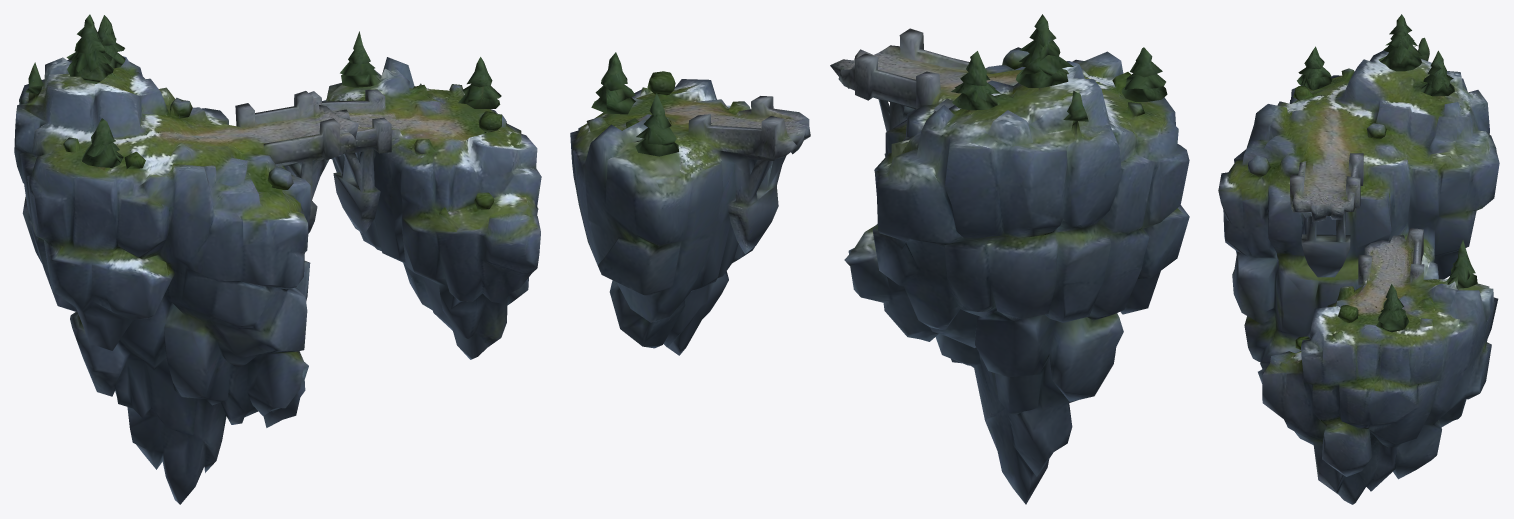
File: island-split.glb
3 views of the same model, side by side, from view 1: azimuth 30°, elevation 25°; view 2: azimuth 150°, elevation 25°; view 3: azimuth 270°, elevation 25° (orthographic). The views are drawn at different scales.
Visible parts, largest first — view 1: tripo_node_a07e5231-4ee9-4728-a29a-5313c194580a; view 2: tripo_node_a07e5231-4ee9-4728-a29a-5313c194580a; view 3: tripo_node_a07e5231-4ee9-4728-a29a-5313c194580a.
Part boxes in pixels (<box>): tripo_node_a07e5231-4ee9-4728-a29a-5313c194580a: <box>14,14,541,504</box>; tripo_node_a07e5231-4ee9-4728-a29a-5313c194580a: <box>570,14,1189,504</box>; tripo_node_a07e5231-4ee9-4728-a29a-5313c194580a: <box>1218,14,1499,504</box>.
Bounding box in the file's own units: 1 × 0.8923 × 0.5664.
1 material, 1 textured.
